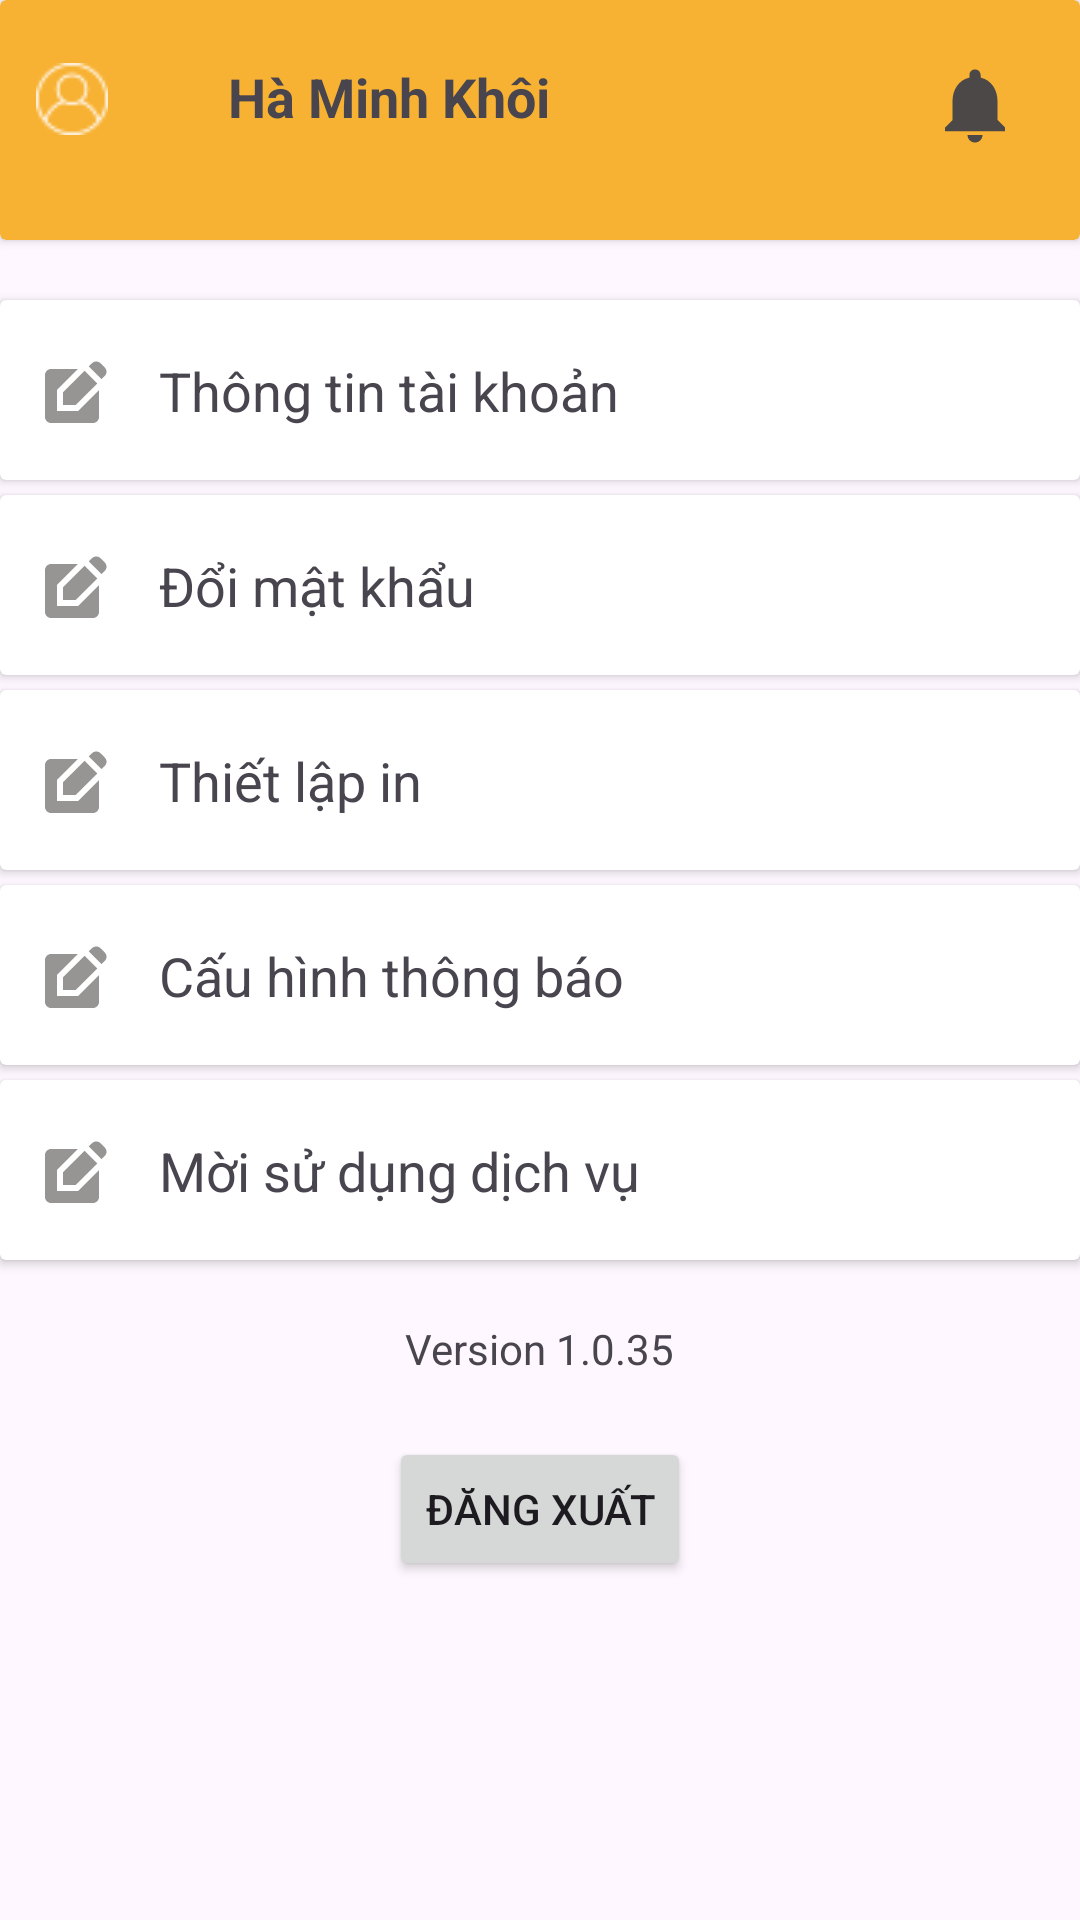

Screen size 1080×1920. Icon name, then its box in pixels as (x1, y1, x2, y2):
edit square: (45, 361, 107, 423), (45, 556, 107, 618), (45, 751, 107, 813), (45, 946, 107, 1008), (45, 1141, 107, 1203)
notifications: (945, 69, 1005, 143)
